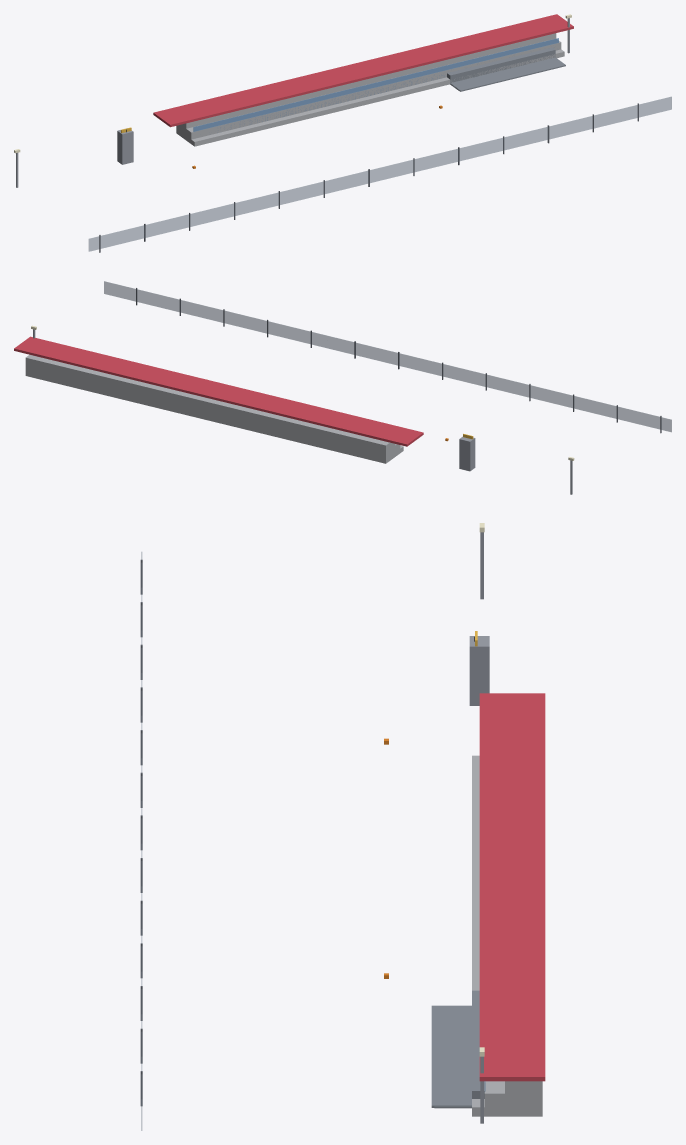
The model's file is venue_21.obj.
3 views of the same model, one above another, from view 1: azimuth 30°, elevation 25°; view 2: azimuth 150°, elevation 25°; view 3: azimuth 270°, elevation 25° (orthographic). The views are drawn at different scales.
Size of the model in its own units: 520 by 32 by 160.
